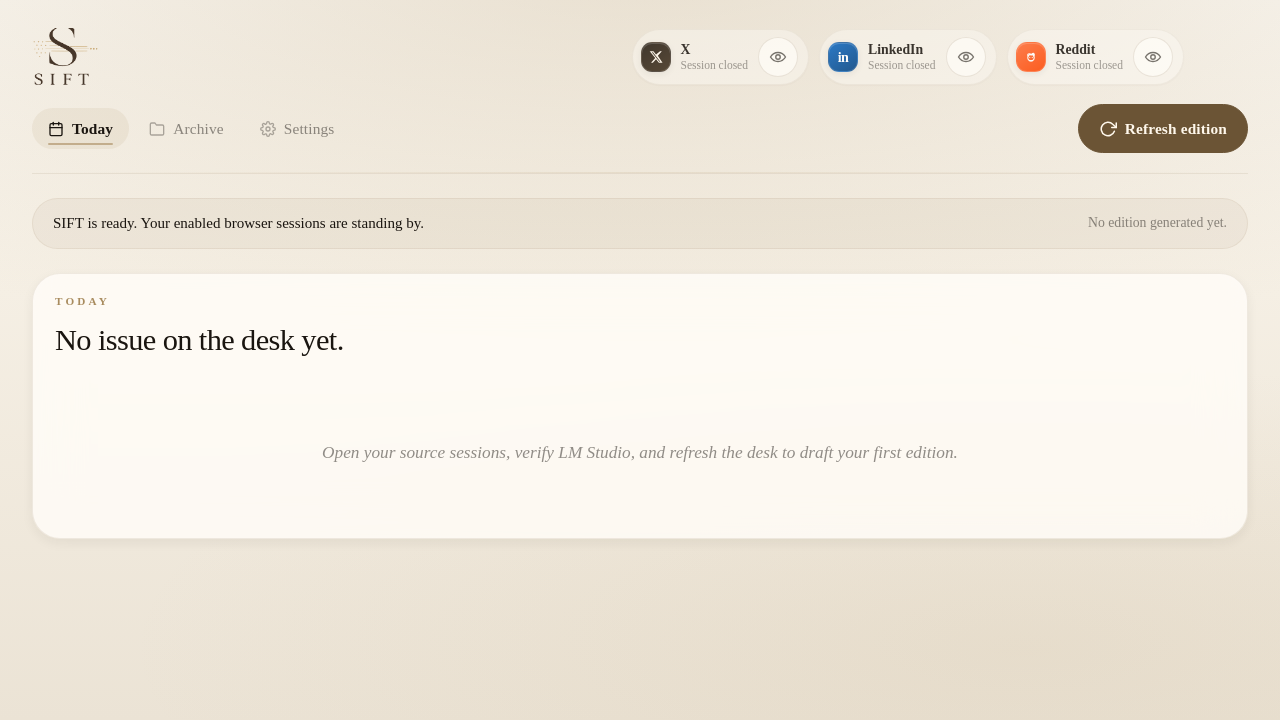
Test: App › delegates manual refresh session choreography to the sync command
The image size is (1280, 720).
Expected: the text "SIFT is ready." is shown, [53, 215, 424, 231]
Click the button "Refresh edition" at [1163, 129], box [1078, 104, 1248, 153]
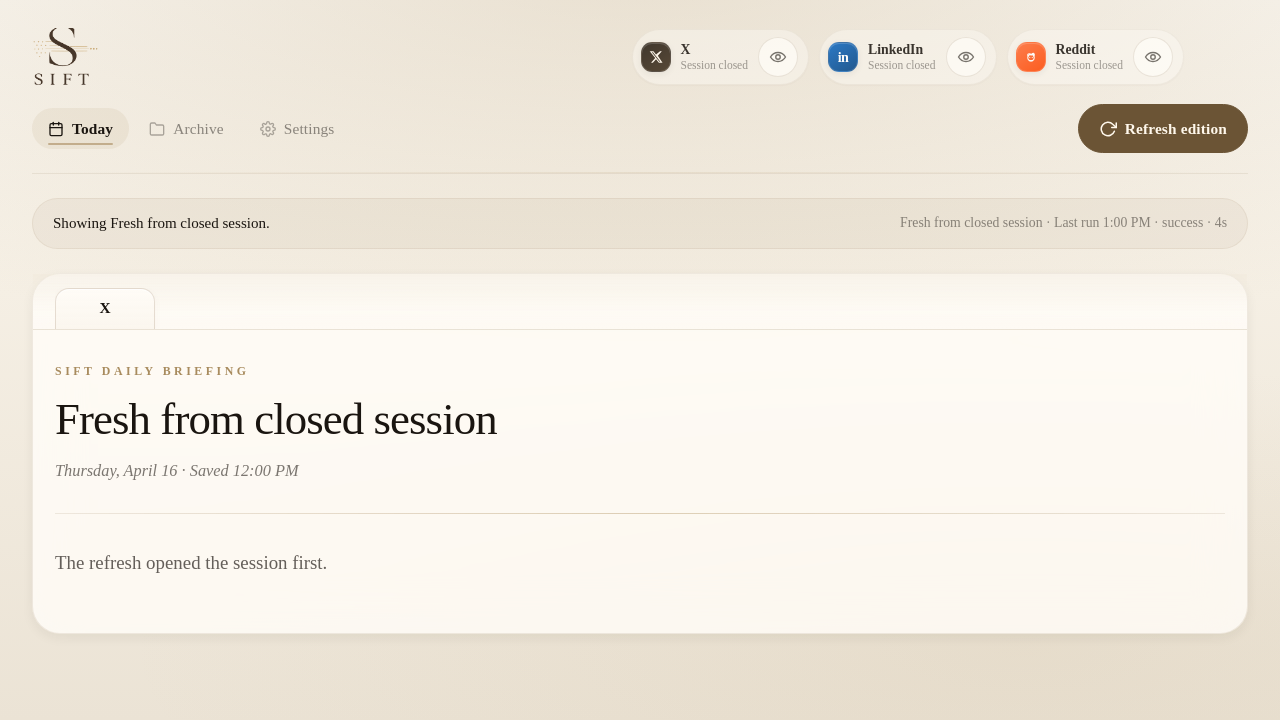
Result: the heading "Fresh from closed session" is shown at [55, 394, 497, 444]
Result: the text "Showing Fresh from closed session." is shown at [53, 211, 270, 236]
